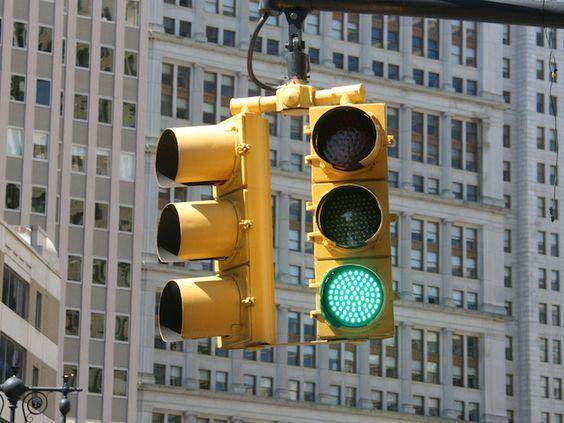green: (308, 103, 406, 347)
